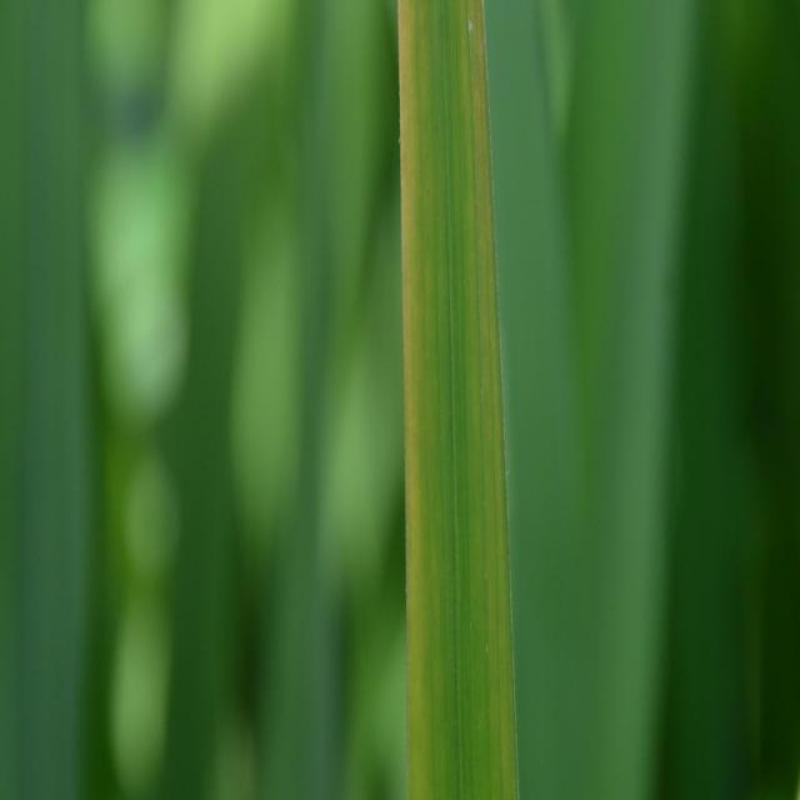Rice Tungro: (381, 9, 529, 750)
